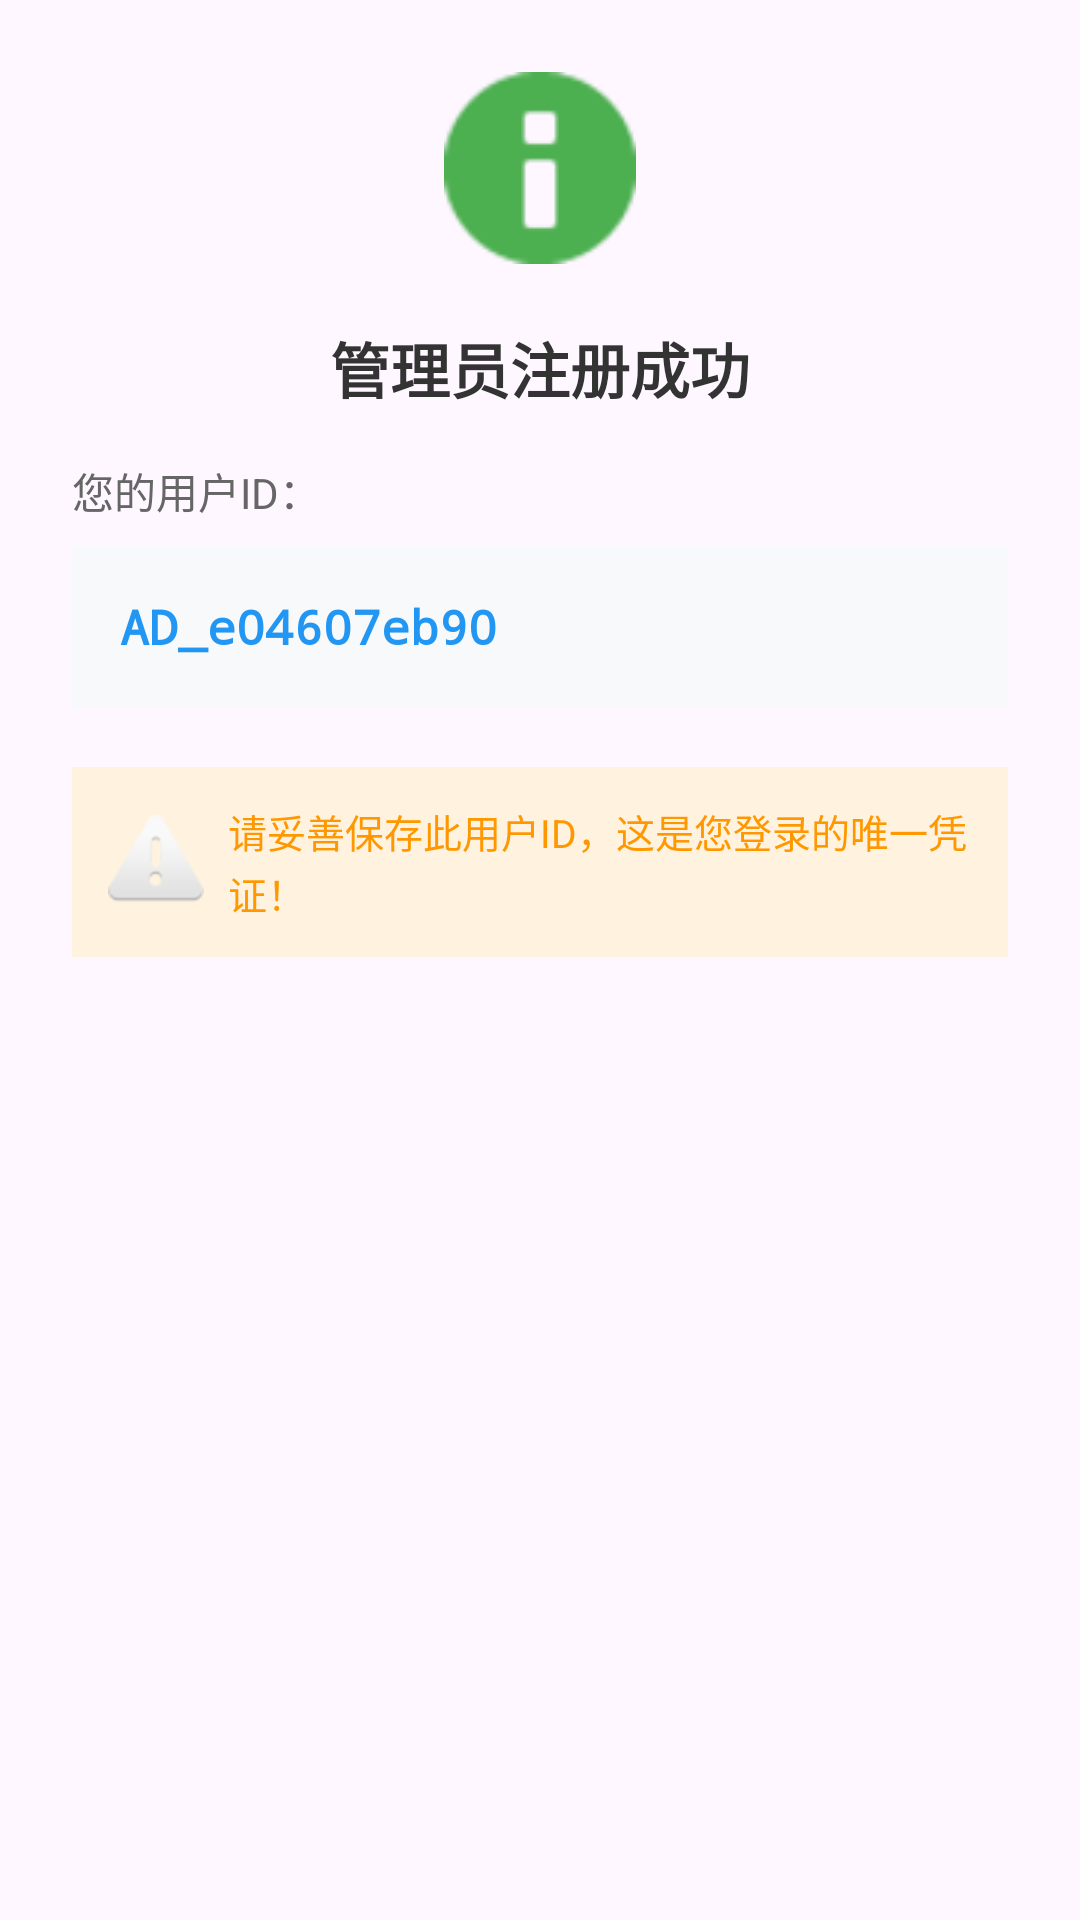

Icon bounding boxes for this 1080 x 1920 phone screenshot, format detection(x1, y1, x2, y2):
info: detection(444, 72, 636, 264)
